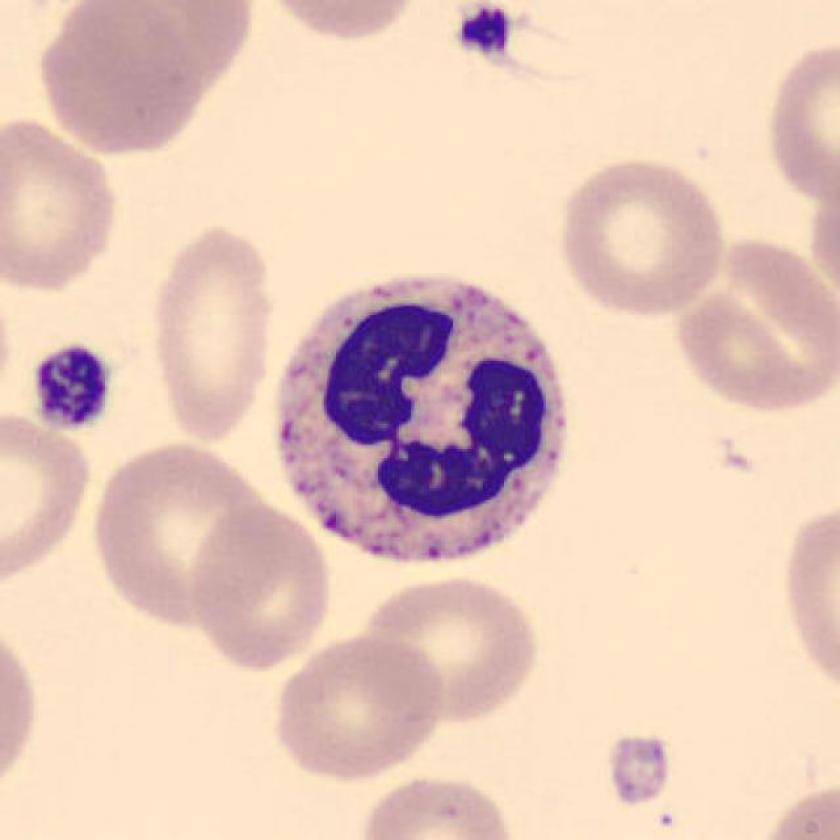neutrophil: (277, 272, 564, 566)
